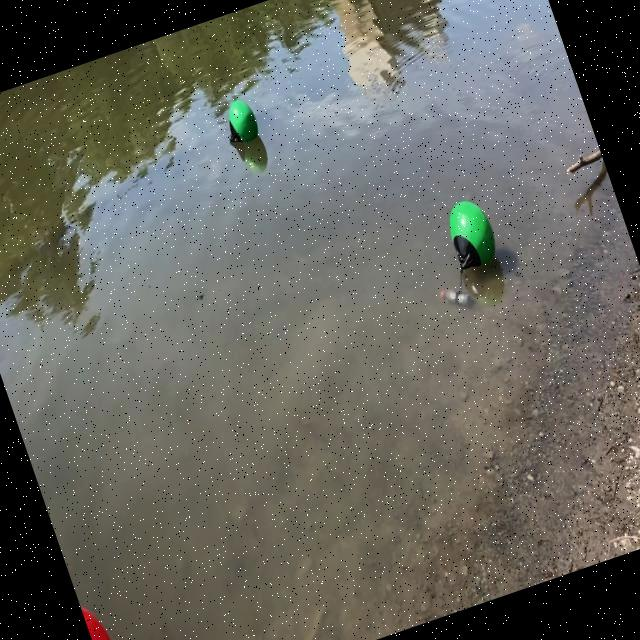buoy: (438, 192, 506, 278), (76, 585, 143, 640), (215, 93, 265, 152)
